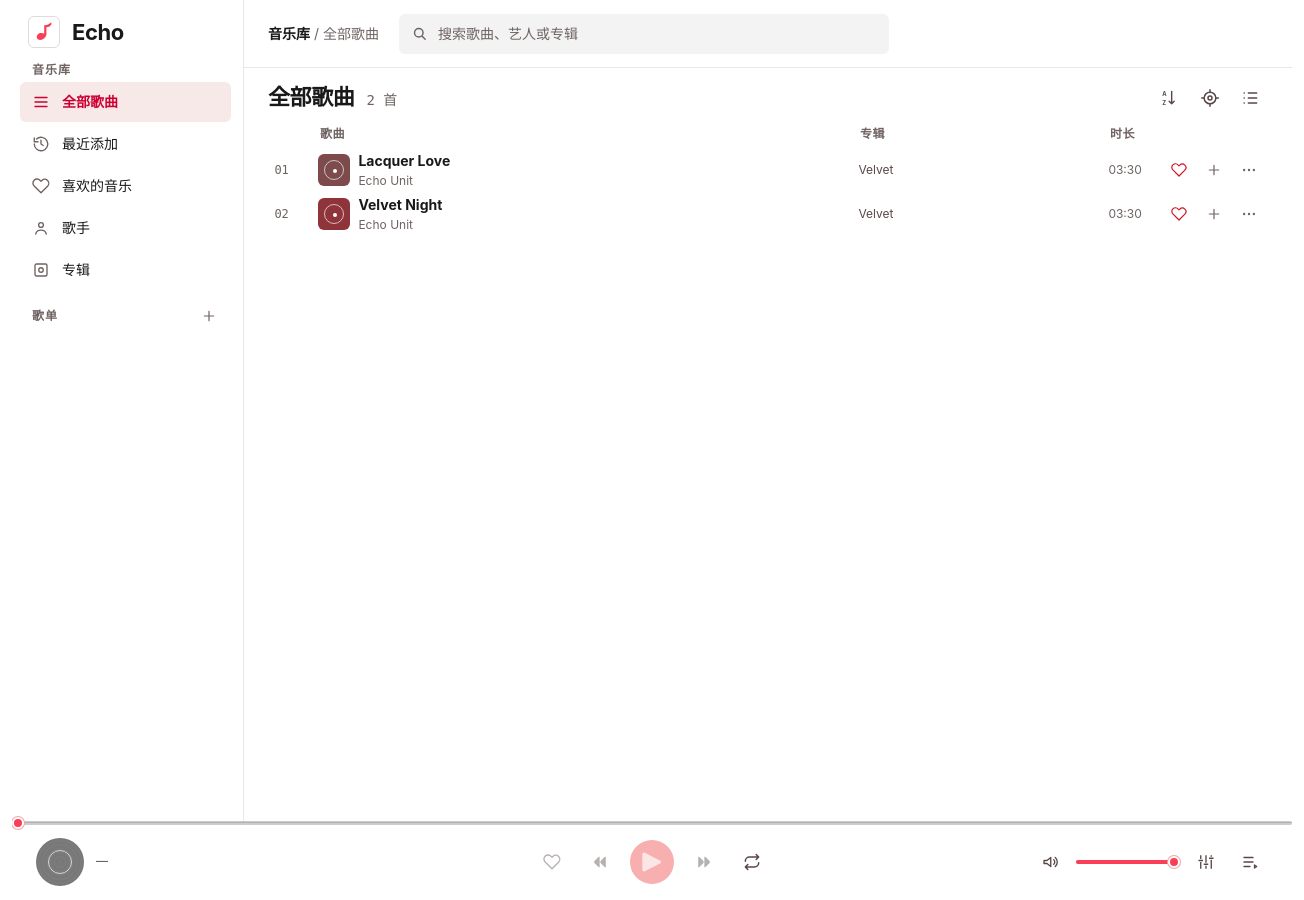
Test: 触发控件 toggle（fix-queue-trigger-toggle） › 再次点击打开菜单的同一行会关闭它
Expected: the row with test id "song-row-song-1" is shown, [268,148,1268,192]
Step 1. Click the button named "歌曲操作" in the row of "01" → (1249, 170), box [1235,156,1262,184]
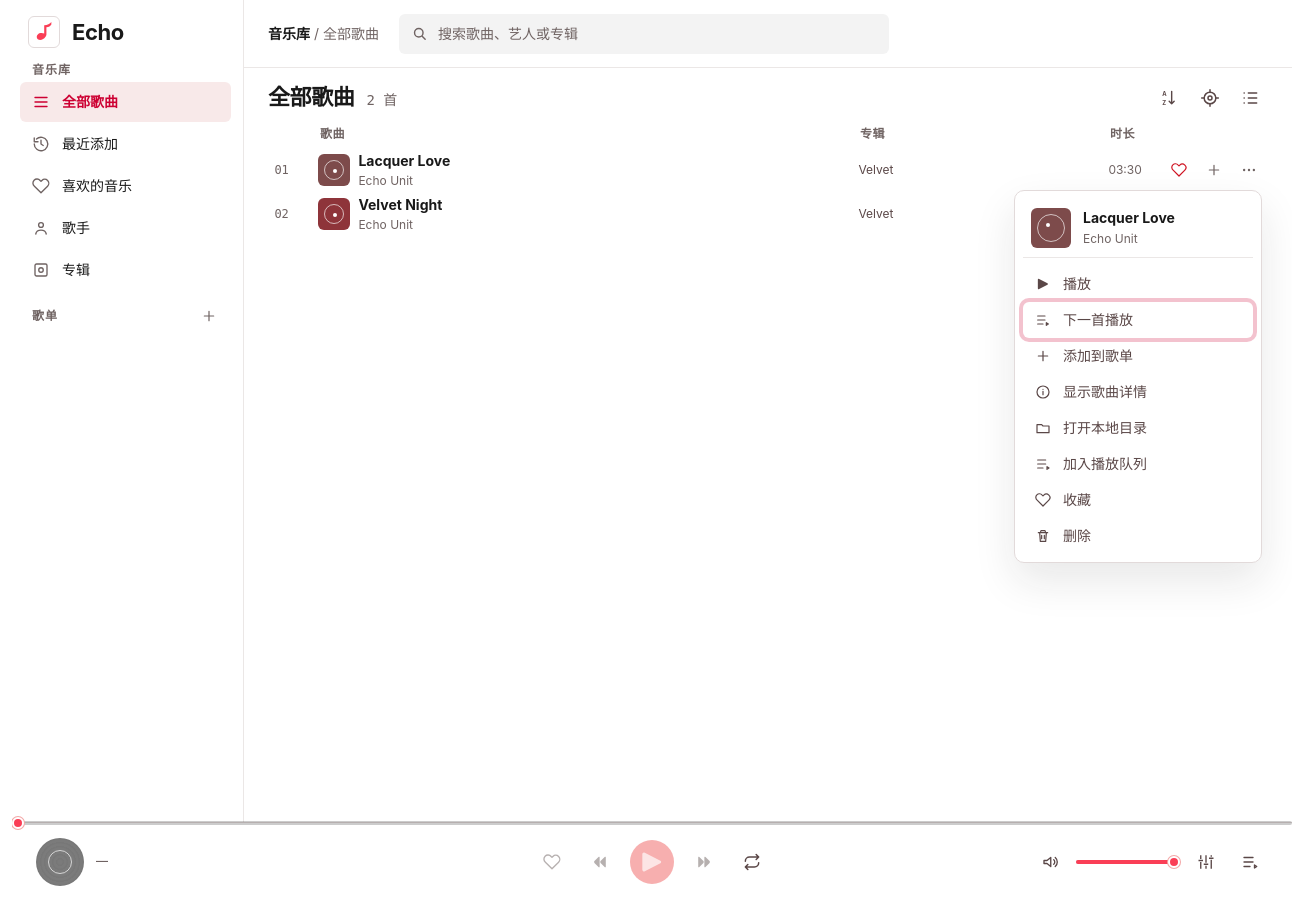
Expected: the menu named "歌曲操作菜单" is shown, [1014,190,1262,562]
Step 2. Click the button named "歌曲操作" → (1249, 170), box [1235,156,1262,184]
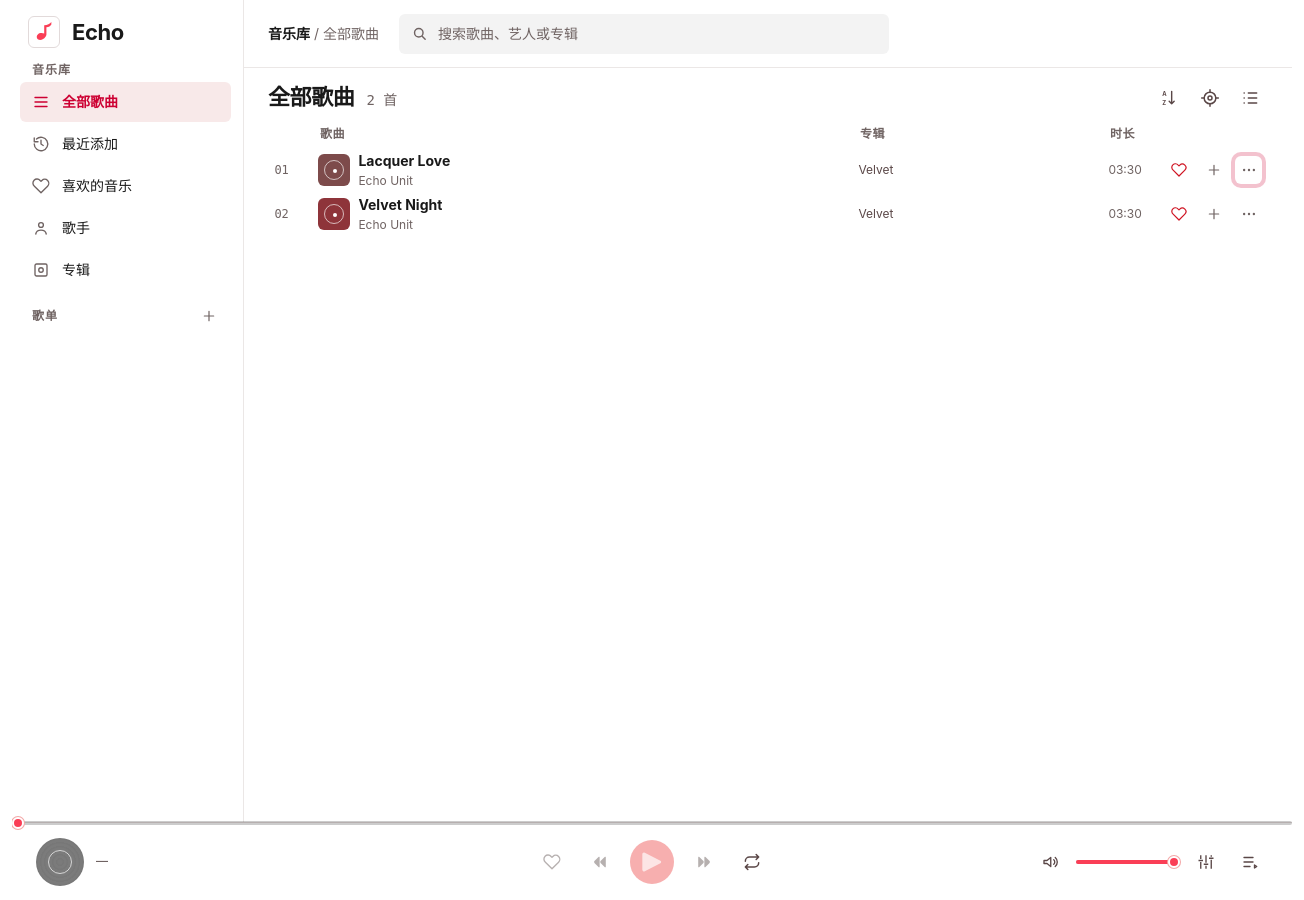
Expected: the menu "歌曲操作菜单" is gone
